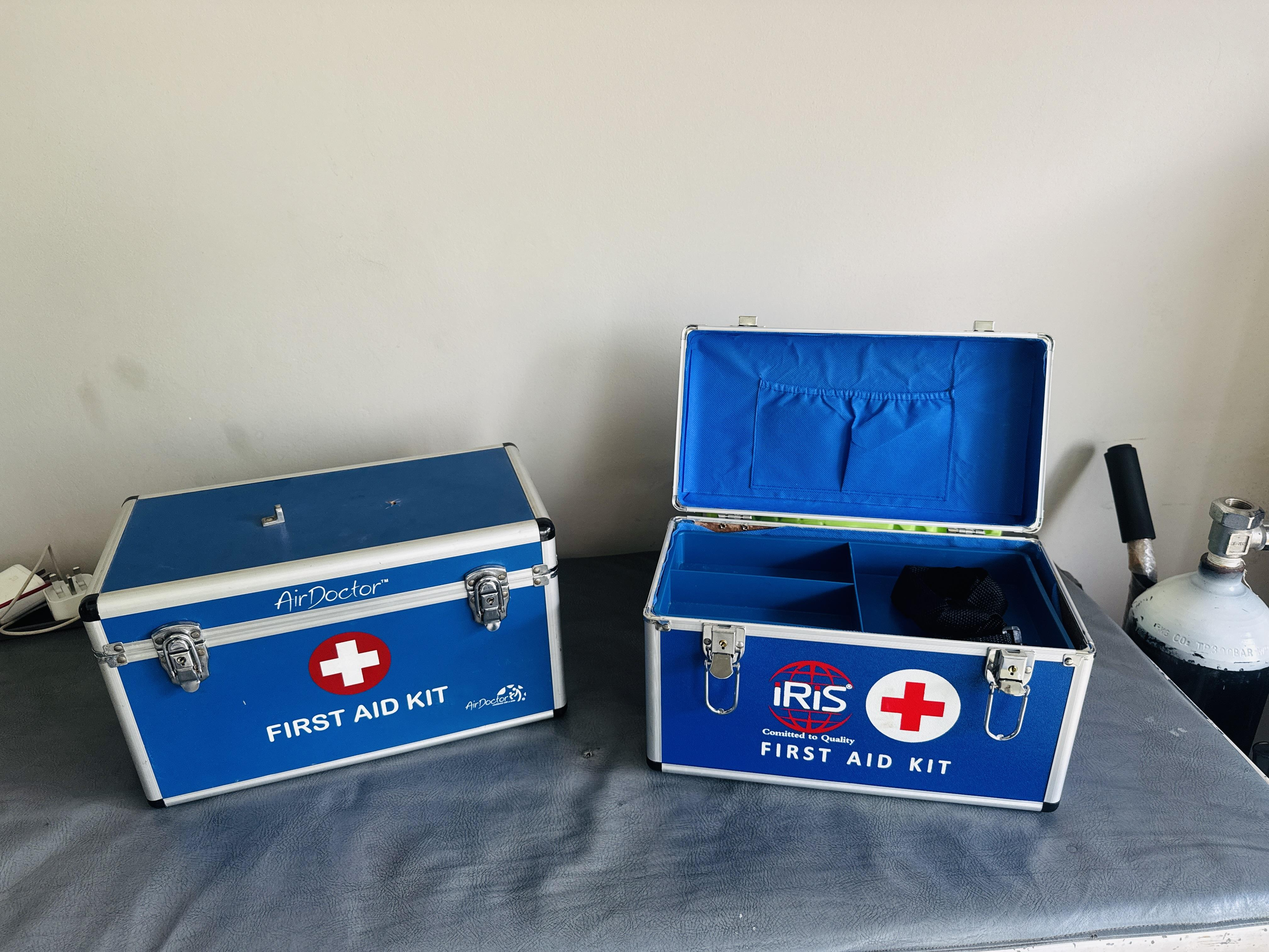FirstAidBox: (622, 295, 1118, 829), (71, 435, 579, 839)
